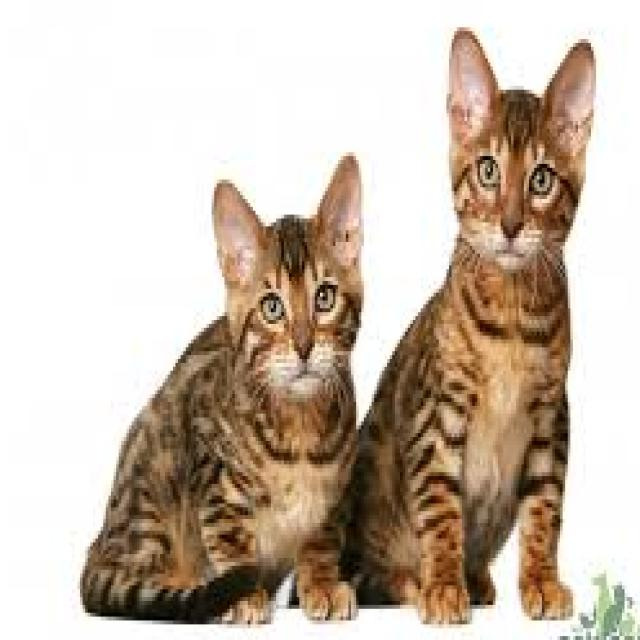Toyger: (346, 21, 602, 631), (75, 145, 367, 632)
